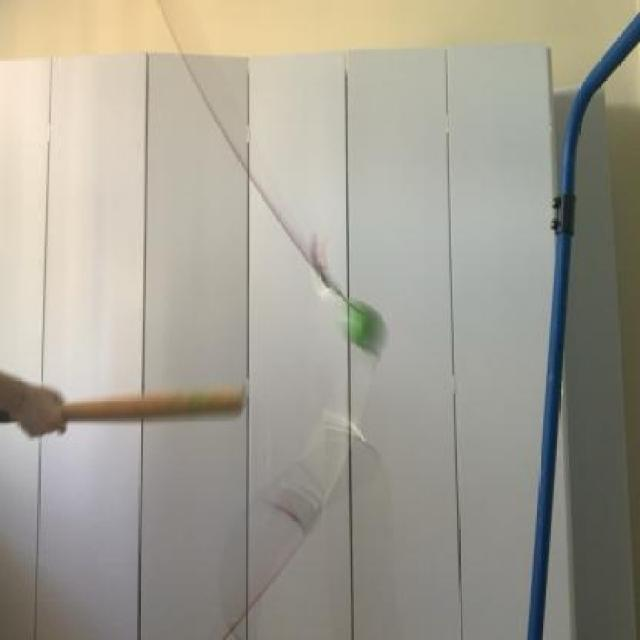baseball: (331, 292, 398, 356)
